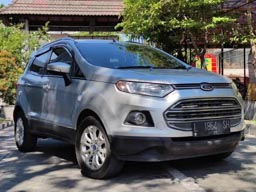plat: (192, 121, 229, 132)
